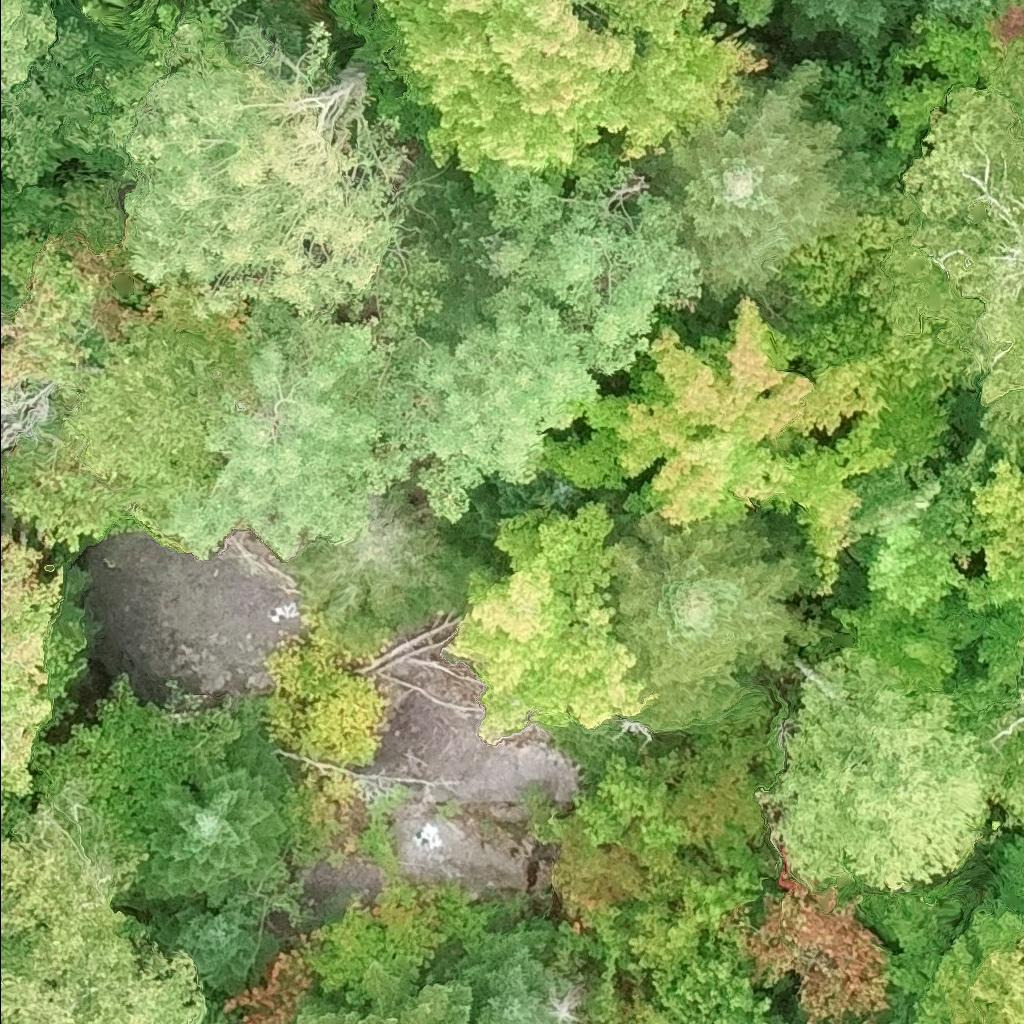crown: (31, 671, 265, 855), (719, 846, 890, 1023), (0, 780, 145, 981), (138, 726, 292, 910), (881, 835, 1023, 1023), (303, 879, 496, 1004), (0, 0, 114, 185), (0, 942, 205, 1023), (442, 918, 584, 1023), (154, 893, 281, 993), (292, 963, 474, 1023), (653, 955, 789, 1023), (953, 936, 1023, 1023), (0, 274, 25, 320), (0, 936, 26, 975)
